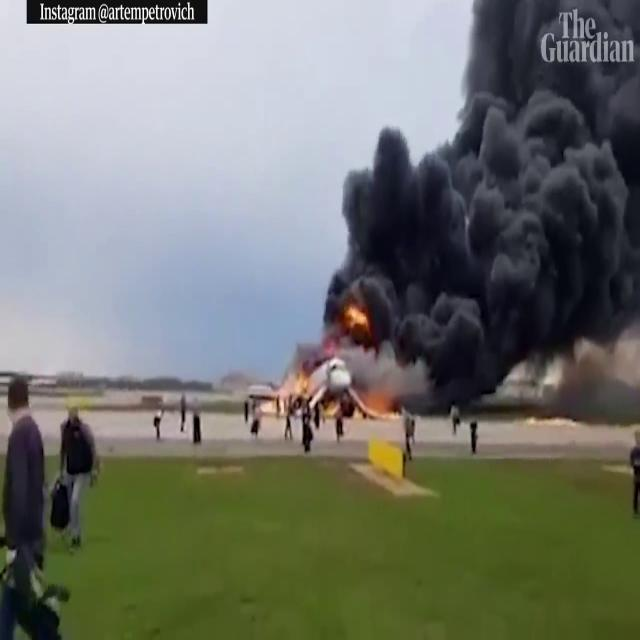Fire: (276, 358, 318, 416)
Smoke: (327, 0, 640, 399)
